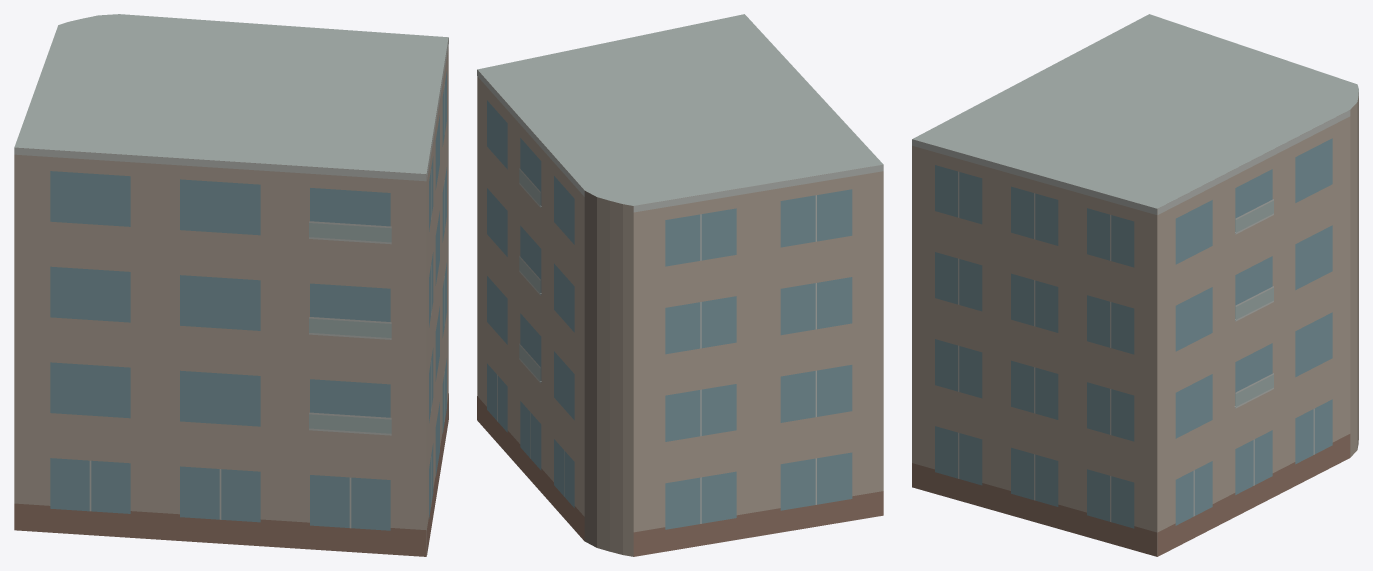
File: survey-upis-32890020.glb
The picture shows the model from 3 angles, left to right: view 1: azimuth 30°, elevation 25°; view 2: azimuth 150°, elevation 25°; view 3: azimuth 270°, elevation 25°; orthographic projection. The views are drawn at different scales.
Parts seen in each view (by area): view 1: survey-upis-32890020.tmp; view 2: survey-upis-32890020.tmp; view 3: survey-upis-32890020.tmp.
Part boxes in pixels (left/top/right/bottom): survey-upis-32890020.tmp: left=14, top=14, right=448, bottom=556; survey-upis-32890020.tmp: left=477, top=14, right=883, bottom=556; survey-upis-32890020.tmp: left=912, top=14, right=1358, bottom=556.
Bounding box in the file's own units: 15.67 × 13.05 × 15.19.
